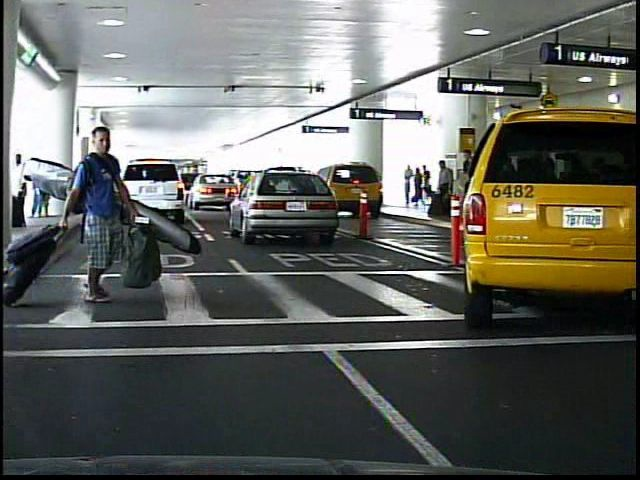person: (69, 117, 137, 321), (430, 160, 452, 218), (401, 164, 413, 208), (413, 166, 424, 210)
